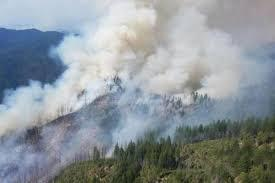smoke: (51, 1, 274, 136), (1, 79, 92, 178)
